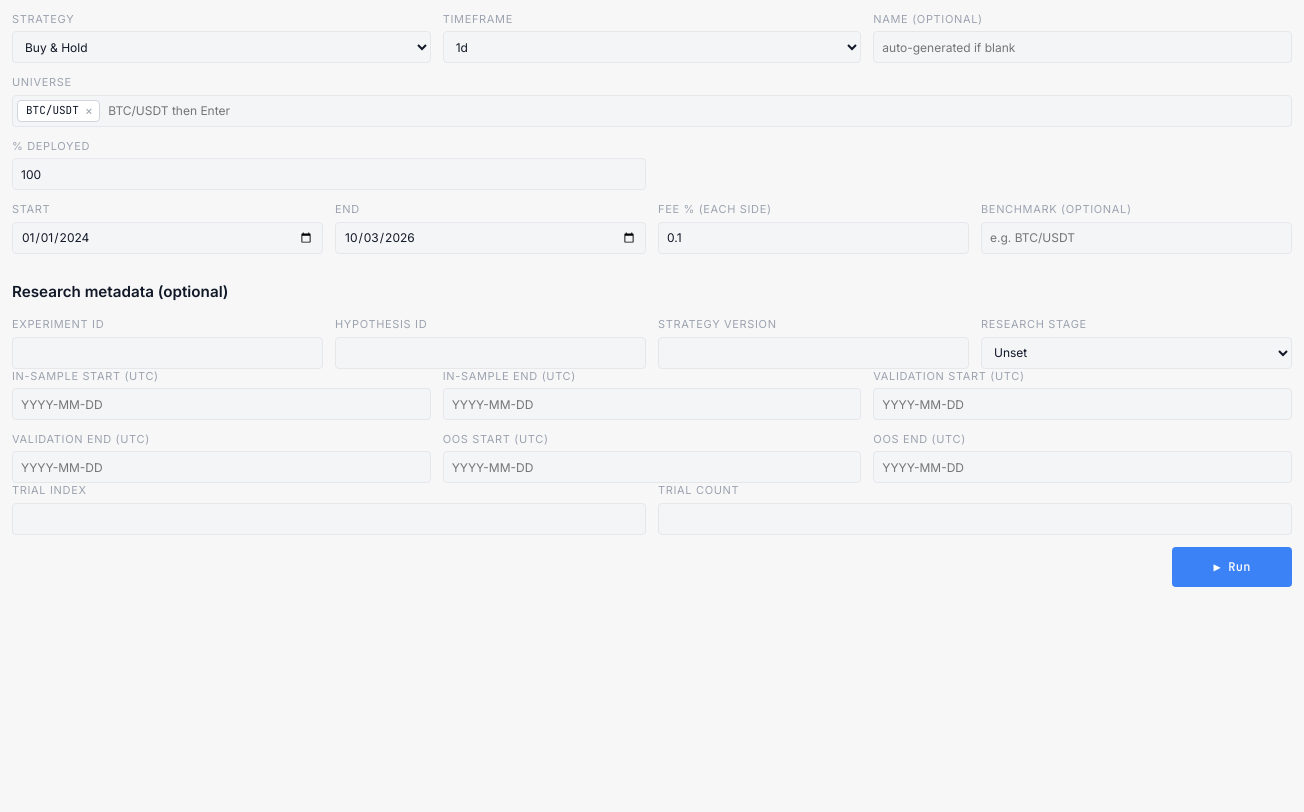
Test: StrategyForm › start >= end shows a client error
This screenshot has width=1304, height=812.
Type "2024-12-01" into the date field showing "Start".
click(168, 238); type("2024-12-01")  # box [12, 222, 323, 254]
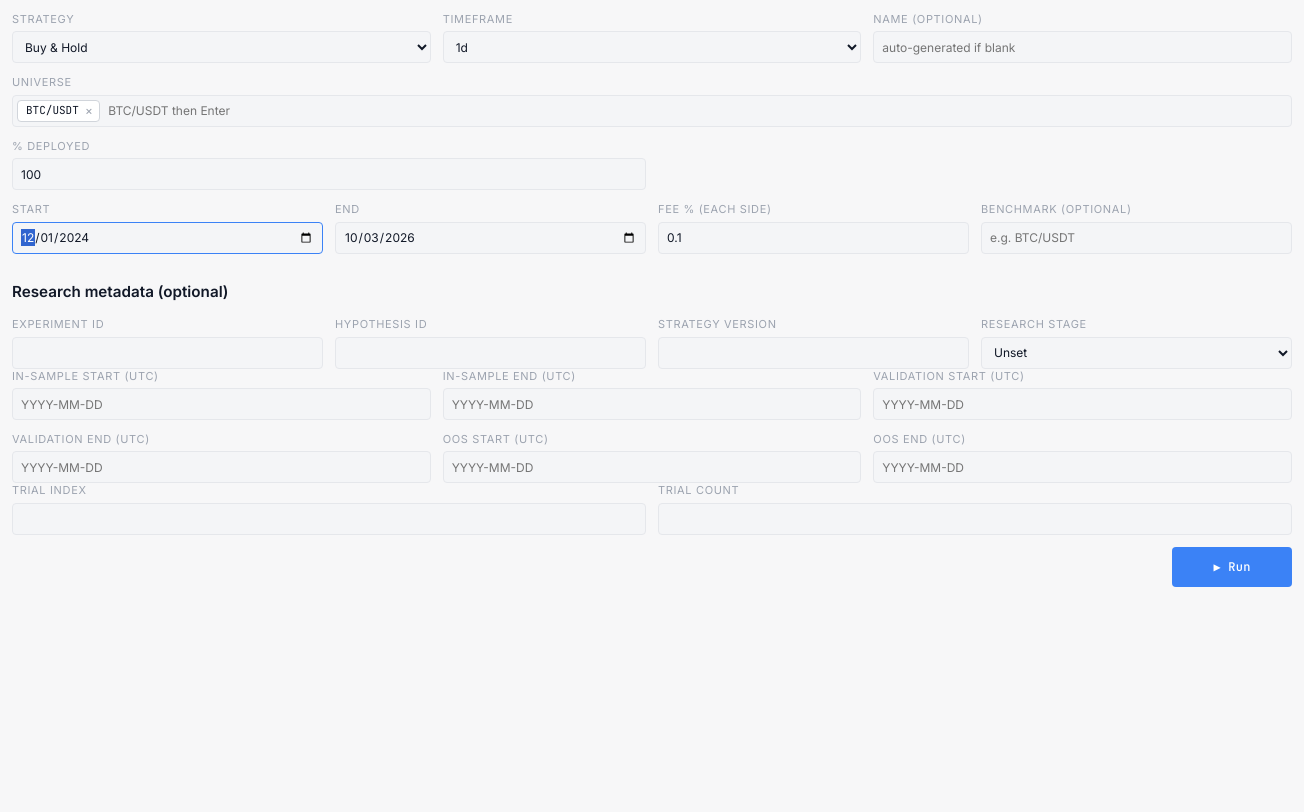
Type "2024-01-01" into the date field showing "End".
click(490, 238); type("2024-01-01")  # box [335, 222, 646, 254]
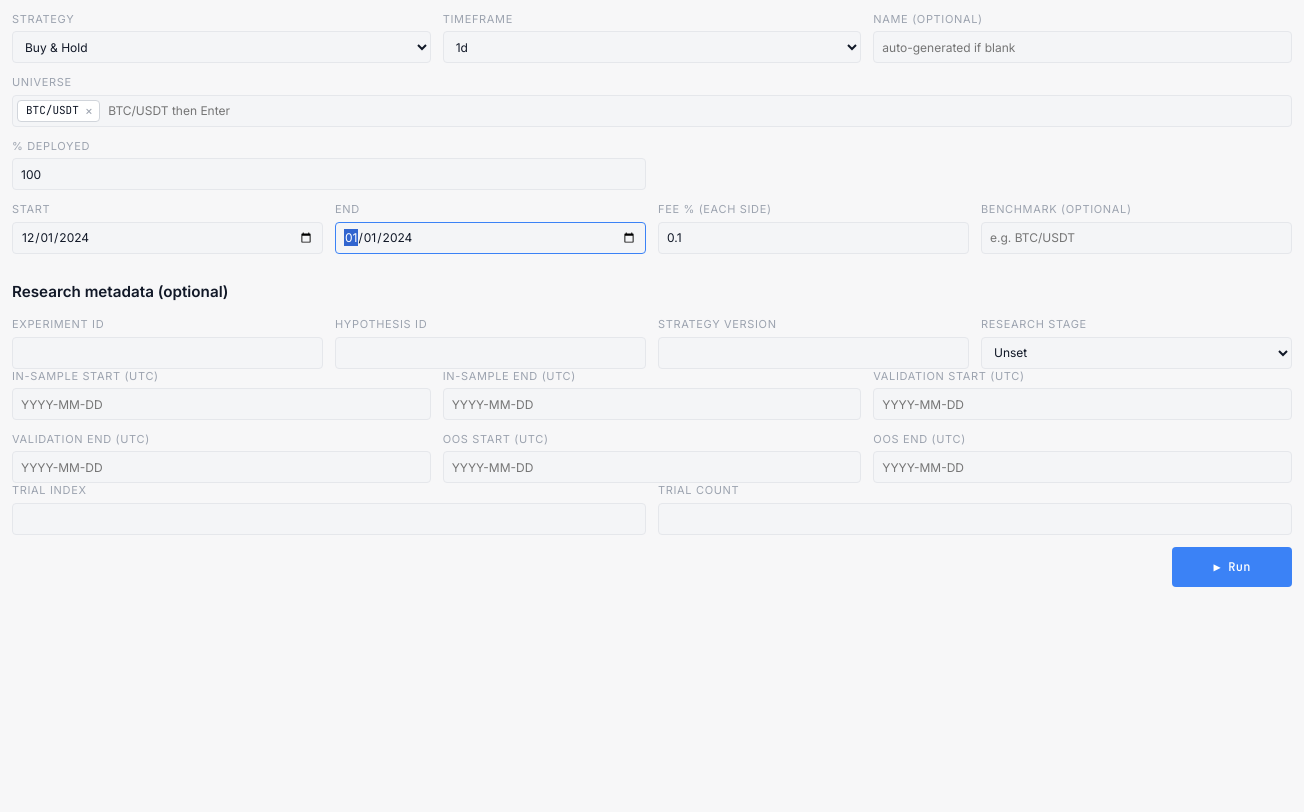
Click the button "▶ Run".
click(1232, 567)  # box [1172, 547, 1292, 587]
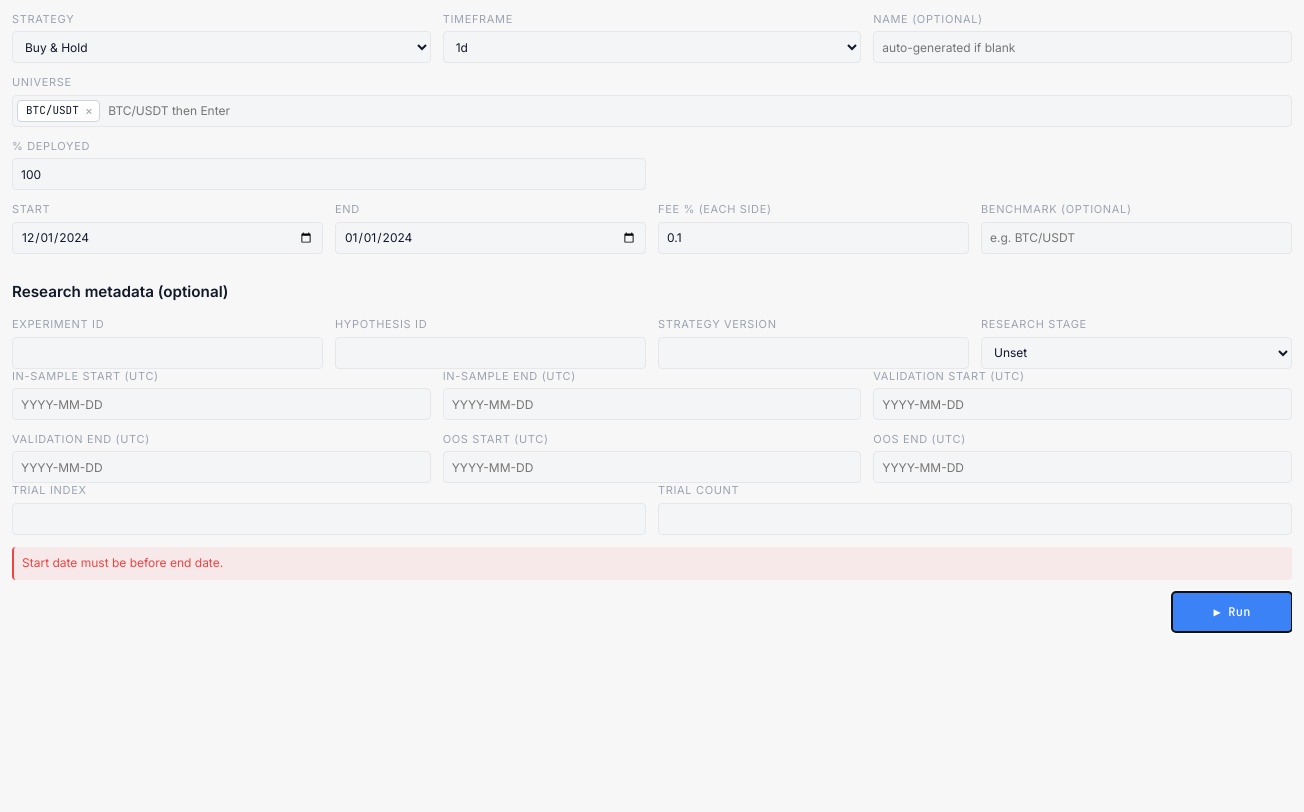
Check: the text "Start date must be before end date." is shown, box [12, 547, 1292, 580]
